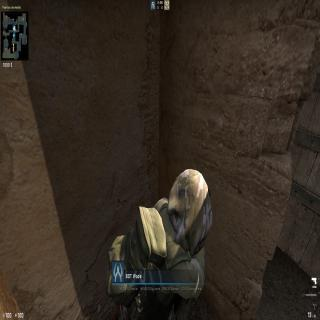CT-Head: (167, 168, 216, 255)
